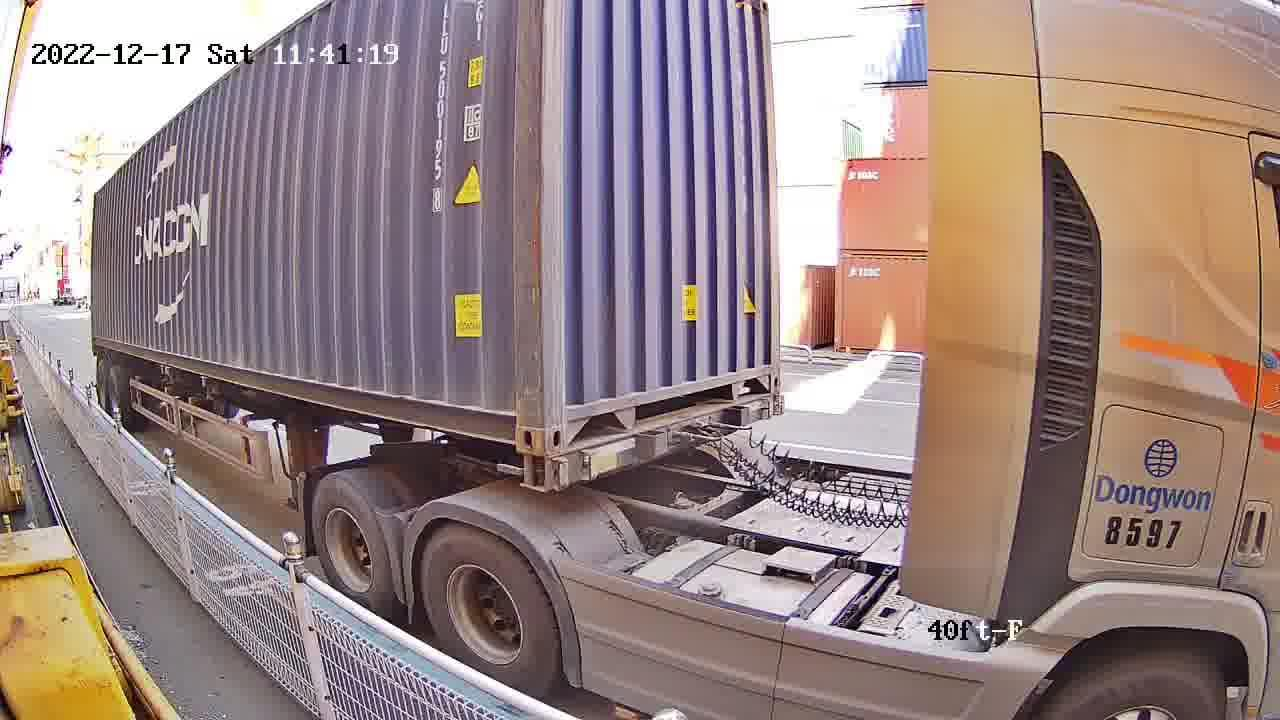Chassis: (549, 391, 779, 491)
Cone: (515, 454, 549, 488)
Hole_L: (544, 396, 597, 453)
Hole_R: (496, 400, 543, 453), (748, 352, 783, 396)
Tire: (417, 531, 556, 691), (309, 474, 393, 609)
